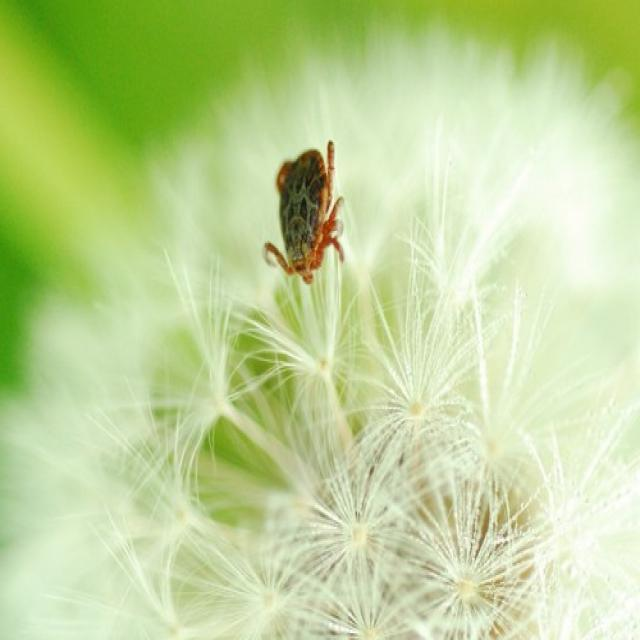Dermacentor Reticulatus-M: (261, 139, 346, 284)
